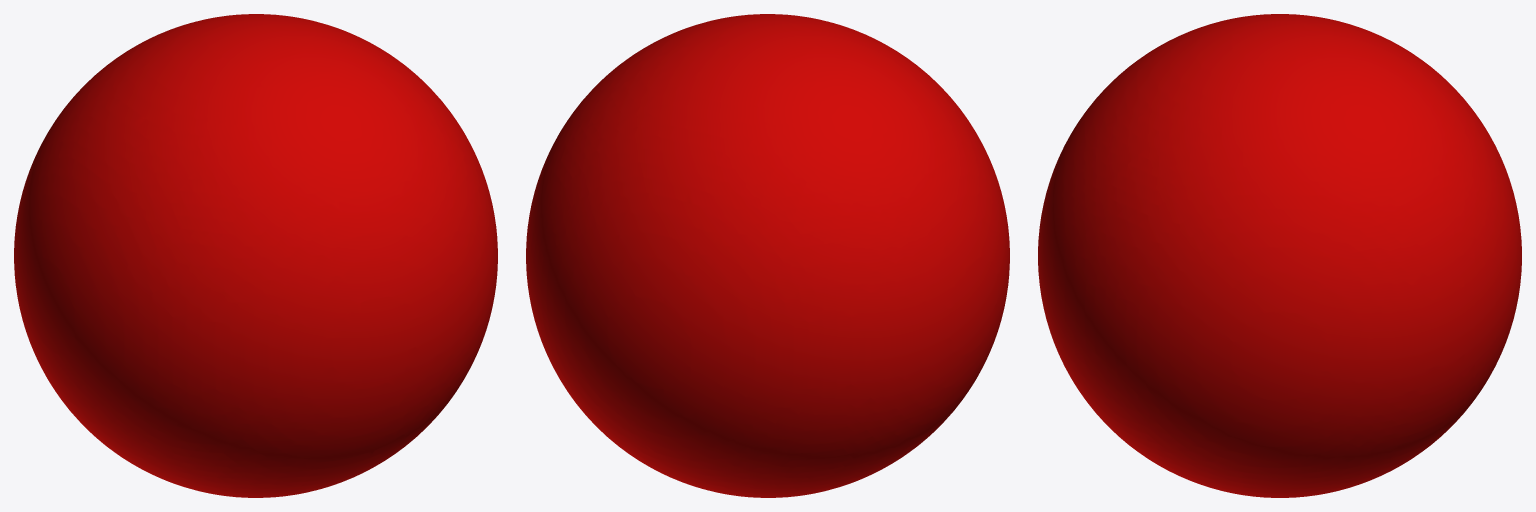
3 renders of one model, left to right at view 1: azimuth 30°, elevation 25°; view 2: azimuth 150°, elevation 25°; view 3: azimuth 270°, elevation 25°, orthographic.
Visible parts, largest first — view 1: Mball; view 2: Mball; view 3: Mball.
Part boxes in pixels (left/top/right/bottom): Mball: left=14, top=14, right=497, bottom=497; Mball: left=526, top=14, right=1009, bottom=497; Mball: left=1038, top=14, right=1521, bottom=497.
Bounding box in the file's own units: 2.3 × 2.3 × 2.3.
